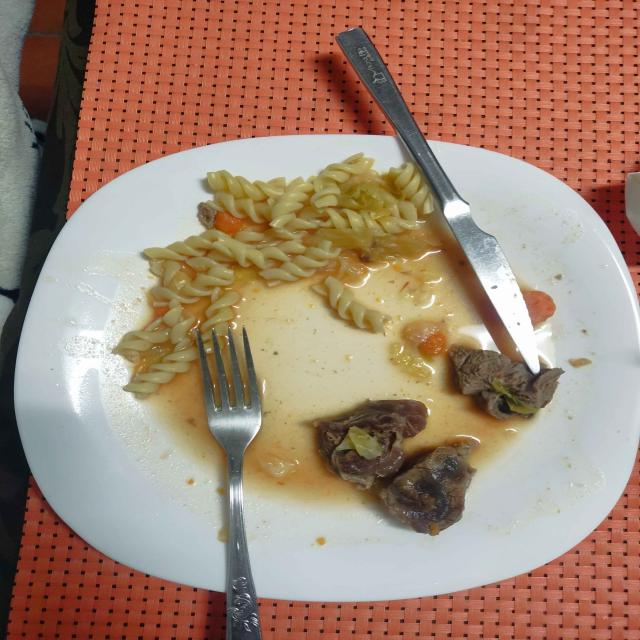fork: (196, 327, 262, 640)
knife: (336, 29, 540, 376)
pasta: (120, 153, 439, 395)
plate: (15, 135, 638, 601)
stewed veal: (381, 439, 479, 536), (320, 400, 427, 485), (448, 346, 564, 420)
